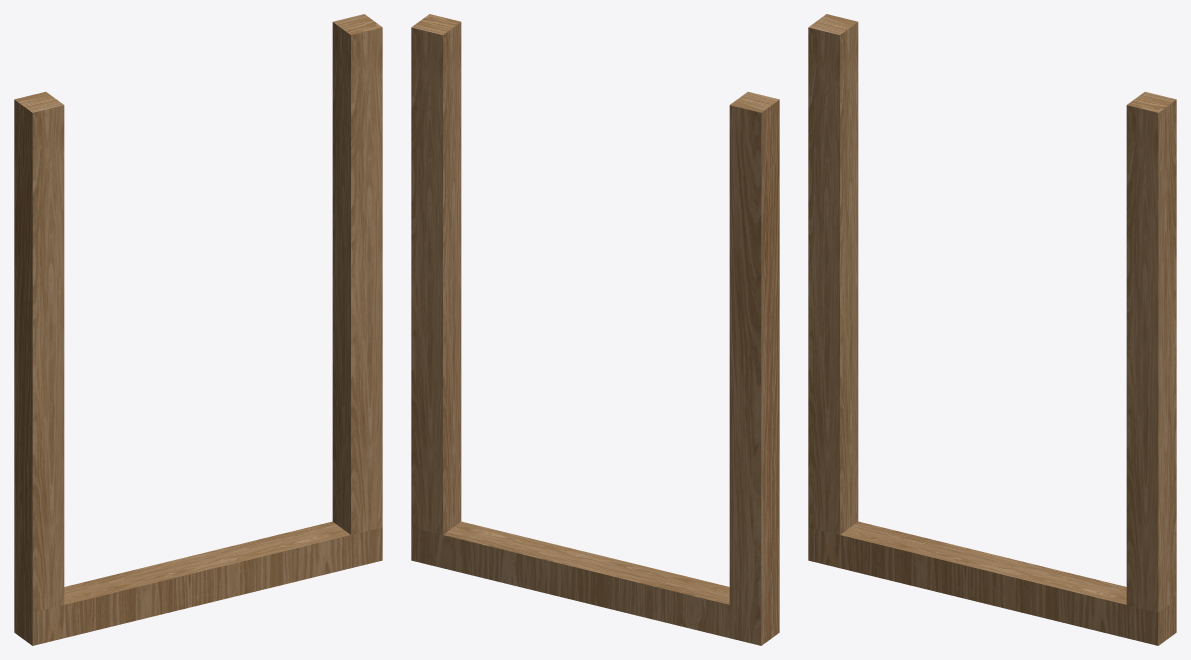
File: suica-frame.glb
3 renders of one model, left to right at view 1: azimuth 30°, elevation 25°; view 2: azimuth 150°, elevation 25°; view 3: azimuth 330°, elevation 25°, orthographic.
Visible parts, largest first — view 1: Cube; view 2: Cube; view 3: Cube.
Part boxes in pixels (x1,y1,x2,y2): Cube: (14, 14, 382, 645); Cube: (411, 14, 779, 645); Cube: (808, 14, 1176, 645).
Bounding box in the file's own units: 220 × 320 × 20.
Materials: 1 (1 with a texture image).
